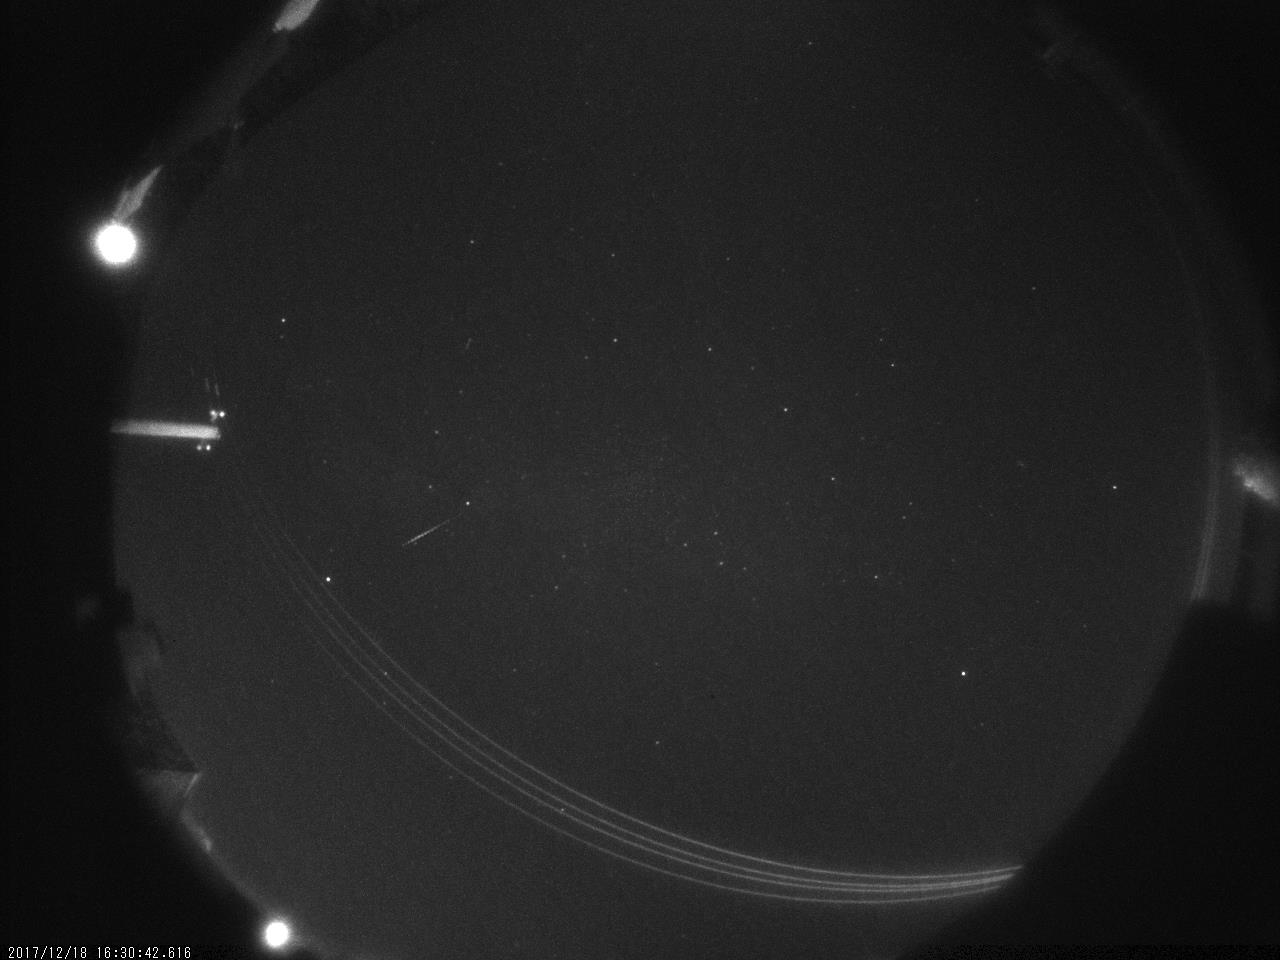meteor: (396, 511, 459, 553)
